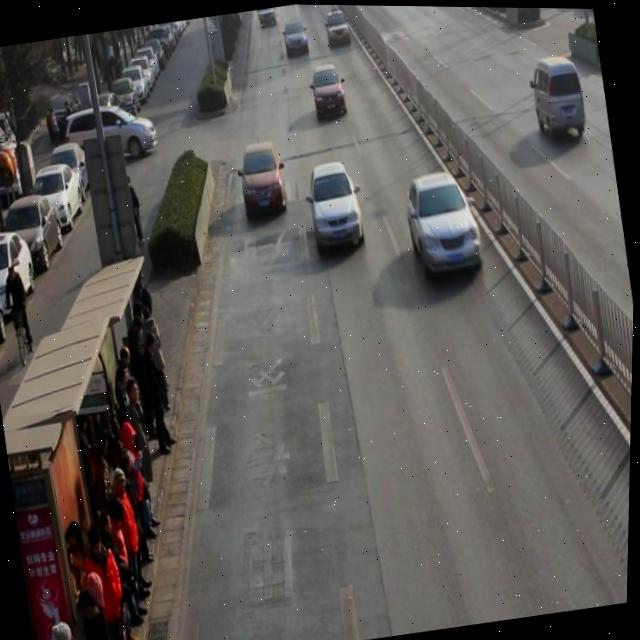car: (403, 163, 489, 280), (305, 155, 369, 251), (235, 135, 291, 218), (309, 58, 350, 120), (323, 4, 353, 46), (281, 13, 310, 56), (256, 6, 276, 25)
truck: (528, 47, 590, 138)
